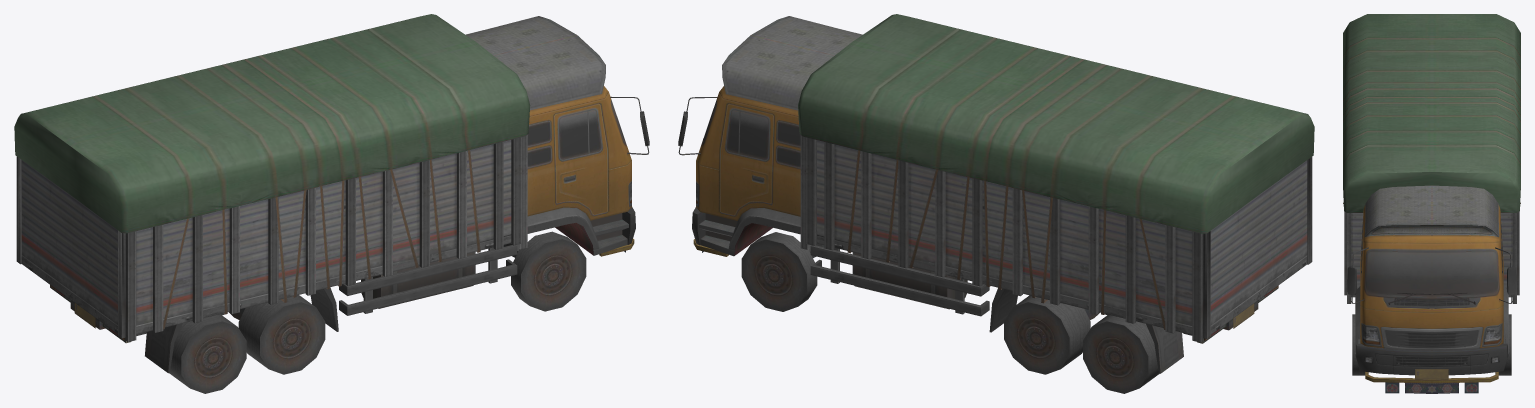
File: sf_truck_03.glb
3 renders of one model, left to right at view 1: azimuth 30°, elevation 25°; view 2: azimuth 150°, elevation 25°; view 3: azimuth 270°, elevation 25°, orthographic. The views are drawn at different scales.
Parts seen in each view (by area): view 1: Traffic_Truck_03_Body, Traffic_Truck_Wheel_Rear_R_1_1_Traffic_Truck_Component_2_0, Traffic_Truck_Wheel_Rear_R_2_Traffic_Truck_Component_2_0, Traffic_Truck_Wheel_Front__R_2_Traffic_Truck_Component_2_0; view 2: Traffic_Truck_03_Body, Traffic_Truck_Wheel_Rear_L_1_1_Traffic_Truck_Component_2_0, Traffic_Truck_Wheel_Front_L_1_Traffic_Truck_Component_2_0, Traffic_Truck_Wheel_Rear_L_2_Traffic_Truck_Component_2_0; view 3: Traffic_Truck_03_Body, Traffic_Truck_03_Light, Traffic_Truck_Wheel_Front_L_1_Traffic_Truck_Component_2_0, Traffic_Truck_Wheel_Front__R_2_Traffic_Truck_Component_2_0.
Part boxes in pixels (x1,y1,x2,y2): Traffic_Truck_03_Body: (14,14,649,373); Traffic_Truck_Wheel_Rear_R_1_1_Traffic_Truck_Component_2_0: (238,295,325,374); Traffic_Truck_Wheel_Rear_R_2_Traffic_Truck_Component_2_0: (169,314,246,393); Traffic_Truck_Wheel_Front__R_2_Traffic_Truck_Component_2_0: (511,231,586,311); Traffic_Truck_03_Body: (678,14,1314,373); Traffic_Truck_Wheel_Rear_L_1_1_Traffic_Truck_Component_2_0: (1004,295,1090,374); Traffic_Truck_Wheel_Front_L_1_Traffic_Truck_Component_2_0: (741,232,817,311); Traffic_Truck_Wheel_Rear_L_2_Traffic_Truck_Component_2_0: (1083,314,1159,393); Traffic_Truck_03_Body: (1343,14,1520,393); Traffic_Truck_03_Light: (1363,325,1500,363); Traffic_Truck_Wheel_Front_L_1_Traffic_Truck_Component_2_0: (1498,314,1511,375); Traffic_Truck_Wheel_Front__R_2_Traffic_Truck_Component_2_0: (1352,314,1365,375).
Size of the model in its own units: 8.25 by 3.51 by 2.98.
Materials: 3 (3 with a texture image).
